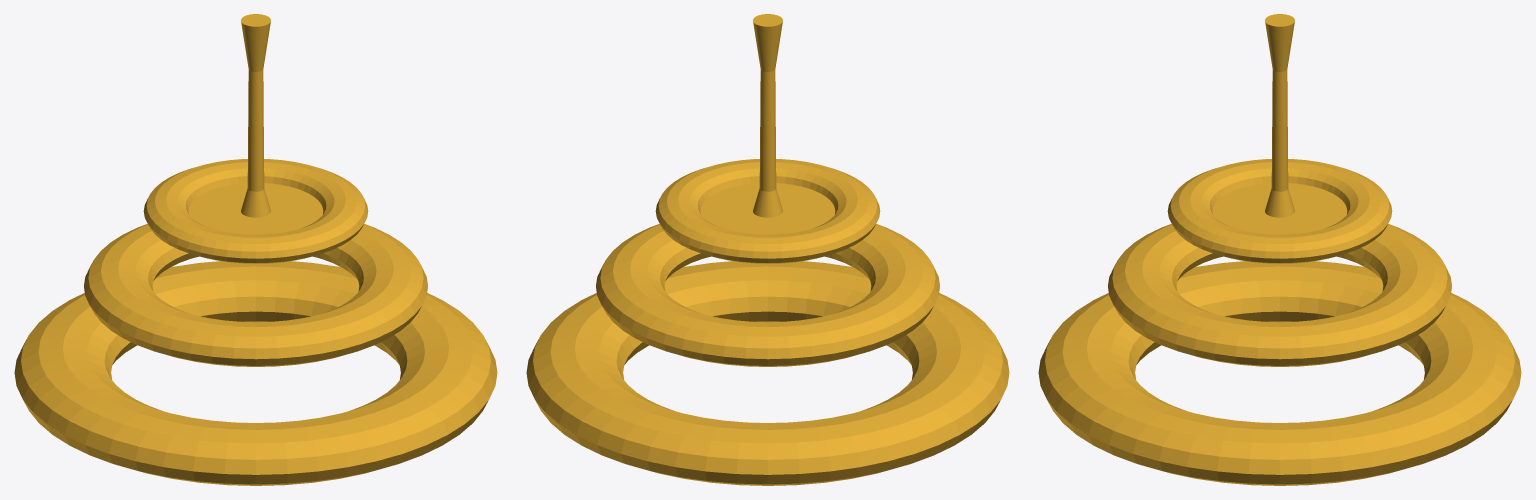
The model's file is Chandelier.glb.
3 renders of one model, left to right at view 1: azimuth 30°, elevation 25°; view 2: azimuth 150°, elevation 25°; view 3: azimuth 270°, elevation 25°, orthographic.
Visible parts, largest first — view 1: Torus.003; view 2: Torus.003; view 3: Torus.003.
Part boxes in pixels (bbox=[...]): Torus.003: bbox=[14, 14, 497, 485]; Torus.003: bbox=[526, 14, 1009, 485]; Torus.003: bbox=[1038, 14, 1521, 485].
Bounding box in the file's own units: 1.32 × 1.14 × 1.32.
